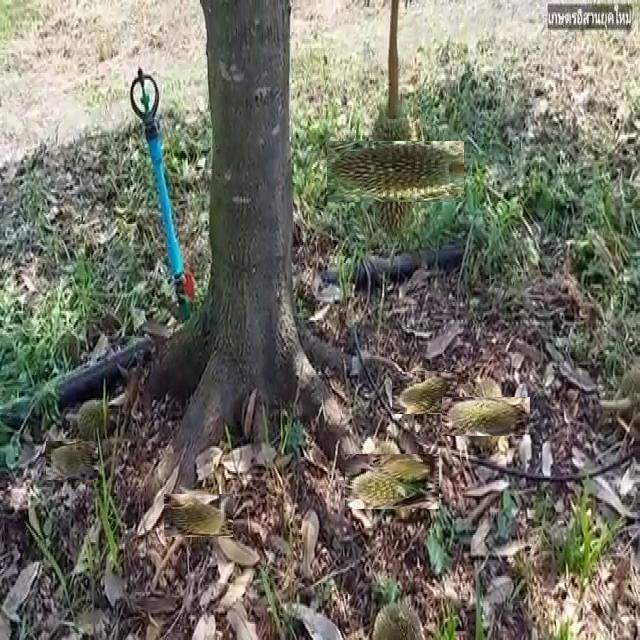durian: (346, 122, 445, 222), (355, 443, 429, 519), (454, 384, 518, 448), (170, 488, 227, 544), (398, 365, 452, 420), (49, 438, 95, 483)
